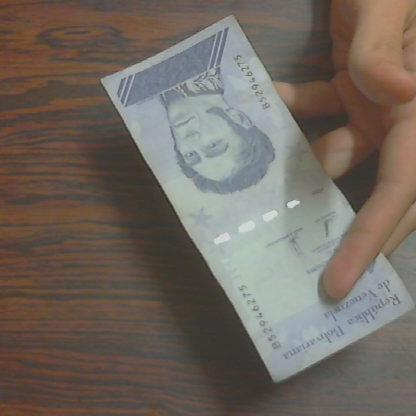ten-front-vef: (97, 13, 416, 390)
